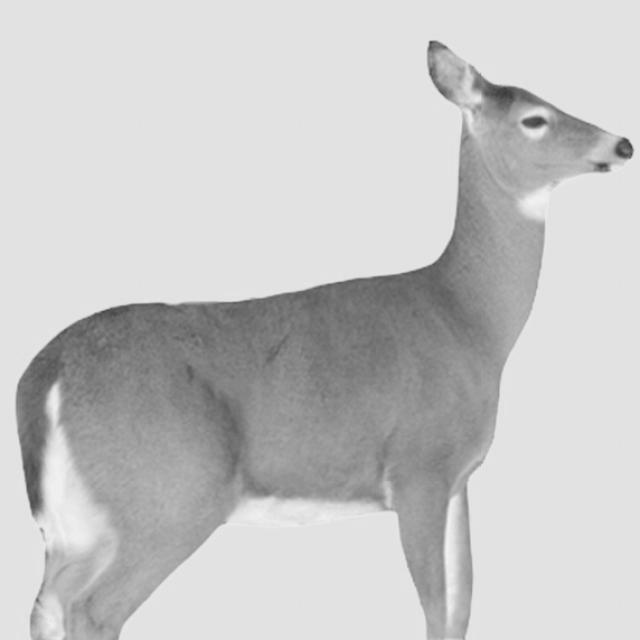Deer: (16, 39, 636, 631)
